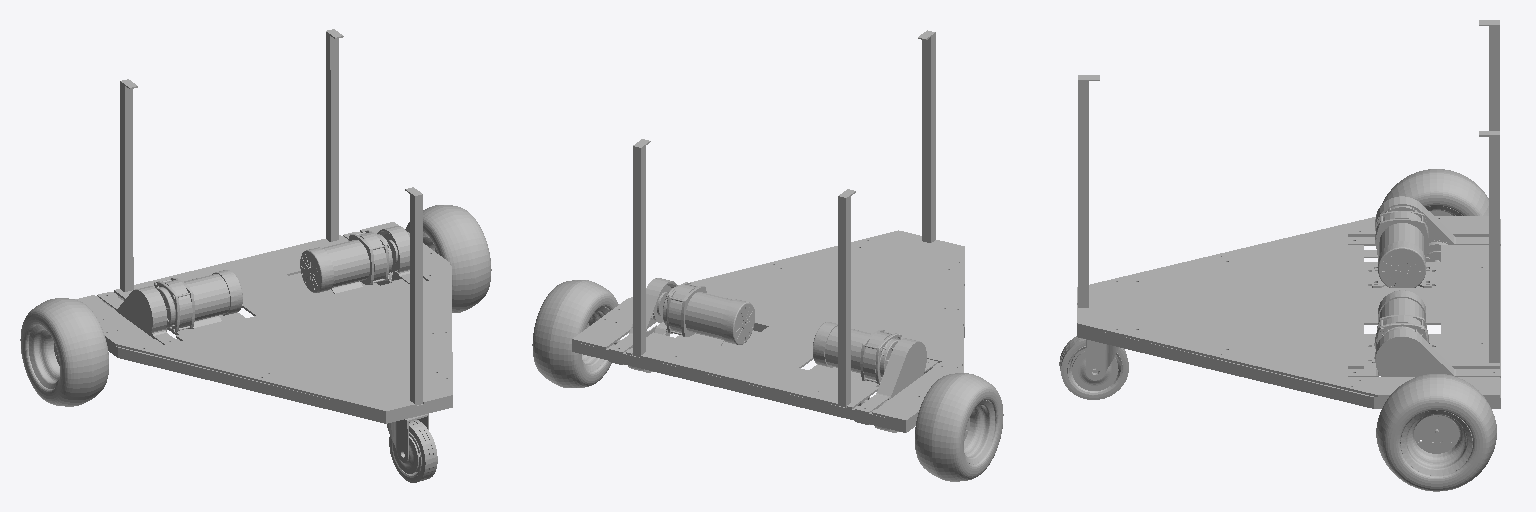
robot.urdf — weeding_robot:
<?xml version="1.0"?>
<robot name="weeding_robot">

    <material name="grey">
        <color rgba="0.75 0.75 0.75 1"/>
    </material>
    <material name="blue">
        <color rgba="0 0 0.8 1"/>
    </material>
    <material name="red">
        <color rgba="0.8 0 0 1"/>
    </material>
    <material name="green">
        <color rgba="0 0.8 0 1"/>
    </material>

    <!--gazebo plugin for simulation-->
    <gazebo>
        <plugin name="gazebo_ros_control" filename="libgazebo_ros_control.so">
            <robotNamespace>/weeding_robot</robotNamespace>
            <robotSimType>gazebo_ros_control/DefaultRobotHWSim</robotSimType>
            <legacyModeNS>true</legacyModeNS>
        </plugin>
    </gazebo>

	<!-- * * * Link Definitions * * * -->

    <link name="base_footprint"/>

    <joint name="base_joint" type="fixed">
        <parent link="base_footprint"/>
        <child link="base_link"/>
        <origin xyz="0.0 0.0 0.010" rpy="0 0 0"/>
    </joint>

    <link name="base_link">
        <inertial>
            <origin xyz="0 0 0" rpy="0 0 0"/>
            <mass value="5" />
            <inertia ixx="0.417041666667" ixy="0.0" ixz="0.0" iyy="0.833333333333" iyz="0.0" izz="0.417041666667"/>
        </inertial>

        <collision>
            <origin rpy="1.57 0 0" xyz="-0.5 0.345 0"/>
            <geometry>
                <mesh filename="package://weeding_robot_description/models/BodycollisionBox.STL" scale="0.001 0.001 0.001"/>
            </geometry>
        </collision>

        <visual>
            <origin rpy="1.57 0 0" xyz="-0.585 0.345 -0.082"/>
            <geometry>
                <mesh filename="package://weeding_robot_description/models/WeedingRobotBodyV2.STL" scale="0.001 0.001 0.001"/>
            </geometry>

            <material name="grey"/>

        </visual>
    </link>

    <link name="left_wheel">
        <inertial>
            <origin xyz="0 0 0" rpy="0 0 0"/>
            <mass value="2.9" />
            <inertia ixx="0.0269397916667" ixy="0.0" ixz="0.0" iyy="0.0269397916667" iyz="0.0" izz="0.04440625"/>
        </inertial>

        <collision>
            <origin rpy="0 0 1.57" xyz="0.07 -0.175 -0.175"/>
            <geometry>
                <mesh filename="package://weeding_robot_description/models/wheelcollisionBox.STL" scale="0.001 0.001 0.001"/>
            </geometry>
        </collision>

        <visual>
            <origin rpy="1.57 0 0" xyz="-0.0677 0.142 -0.1420"/>
            <geometry>
                <mesh filename="package://weeding_robot_description/models/wheel.STL" scale="0.001 0.001 0.001"/>
            </geometry>

            <material name="grey"/>

        </visual>
    </link>

    <joint name="left_wheel_joint" type="continuous">
    	<parent link="base_link"/>
    	<child link="left_wheel"/>
        <origin xyz="-0.572 0.195 -0.03" rpy="0 0 0"/>
        <axis xyz="1 0 0"/>
	</joint>

    <transmission name="left_wheel_tran">
        <type>transmission_interface/SimpleTransmission</type>
        <joint name="left_wheel_joint">
            <hardwareInterface>hardware_interface/EffortJointInterface</hardwareInterface>
        </joint>
        <actuator name="left_motor">
            <hardwareInterface>hardware_interface/EffortJointInterface</hardwareInterface>
            <mechanicalReduction>1</mechanicalReduction>
        </actuator>
    </transmission>

    <link name="right_wheel">
        <inertial>
            <origin xyz="0 0 0" rpy="0 0 0"/>
            <mass value="2.9" />
            <inertia ixx="0.0269397916667" ixy="0.0" ixz="0.0" iyy="0.0269397916667" iyz="0.0" izz="0.04440625"/>
        </inertial>

        <collision>
            <origin rpy="0 0 1.57" xyz="0.07 -0.175 -0.175"/>
            <geometry>
                <mesh filename="package://weeding_robot_description/models/wheelcollisionBox.STL" scale="0.001 0.001 0.001"/>
            </geometry>
        </collision>

        <visual>
            <origin rpy="1.57 0 0" xyz="-0.0677 0.142 -0.1420"/>
            <geometry>
                <mesh filename="package://weeding_robot_description/models/wheel.STL" scale="0.001 0.001 0.001"/>
            </geometry>

            <material name="grey"/>

        </visual>
    </link>

    <joint name="right_wheel_joint" type="continuous">
    	<parent link="base_link"/>
    	<child link="right_wheel"/>
        <origin xyz="0.572 0.195 -0.03" rpy="0 0 0"/>
        <axis xyz="1 0 0"/>
	</joint>

    <transmission name="right_wheel_tran">
        <type>transmission_interface/SimpleTransmission</type>
        <joint name="right_wheel_joint">
            <hardwareInterface>hardware_interface/EffortJointInterface</hardwareInterface>
        </joint>
        <actuator name="right_motor">
            <hardwareInterface>hardware_interface/EffortJointInterface</hardwareInterface>
            <mechanicalReduction>1</mechanicalReduction>
        </actuator>
    </transmission>

    <link name="back_wheel">
        <inertial>
            <origin xyz="0 0 0" rpy="0 0 0"/>
            <mass value="2.9" />
            <inertia ixx="0.0269397916667" ixy="0.0" ixz="0.0" iyy="0.0269397916667" iyz="0.0" izz="0.04440625"/>
        </inertial>

        <collision>
            <origin rpy="0 0 1.57" xyz="0.07 -0.175 -0.125"/>
            <geometry>
                <mesh filename="package://weeding_robot_description/models/wheelcollisionBox.STL" scale="0.001 0.001 0.001"/>
            </geometry>
        </collision>

        <visual>
            <origin rpy="1.5 0 0.1" xyz="-0.085 0.145 -0.125"/>
            <geometry>
                <mesh filename="package://weeding_robot_description/models/back_wheel.STL" scale="0.001 0.001 0.001"/>
            </geometry>

            <material name="grey"/>

        </visual>
    </link>

    <joint name="back_wheel_joint" type="fixed">
    	<parent link="base_link"/>
    	<child link="back_wheel"/>
        <origin xyz="0 -0.63 -0.085" rpy="0 0 0"/>
        <axis xyz="1 0 0"/>
	</joint>

   
</robot>

--- Facts derived from the render (not from the file) ---
3 views of the same robot in one strip: view 1: azimuth 30°, elevation 25°; view 2: azimuth 150°, elevation 25°; view 3: azimuth 270°, elevation 25° (orthographic).
Model weeding_robot with 5 links and 4 joints (2 continuous, 2 fixed), rooted at base_footprint, posed every joint at zero.
Links seen in each view (by area): view 1: base_link, left_wheel, right_wheel, back_wheel; view 2: base_link, left_wheel, right_wheel; view 3: base_link, right_wheel, back_wheel, left_wheel.
Link boxes in pixels (x1,y1,x2,y2): base_link: [56, 29, 452, 423]; left_wheel: [20, 298, 108, 406]; right_wheel: [405, 205, 491, 312]; back_wheel: [387, 414, 437, 482]; base_link: [572, 30, 967, 432]; left_wheel: [915, 373, 1003, 481]; right_wheel: [532, 280, 618, 387]; base_link: [1077, 20, 1500, 442]; right_wheel: [1376, 374, 1496, 491]; back_wheel: [1059, 336, 1128, 399]; left_wheel: [1382, 169, 1488, 215].
Size in the robot's own frame: 1.28 by 1.04 by 0.8293 metres.
Meshes: 3 distinct files referenced, 4 mesh visuals loaded (3 binary STL).